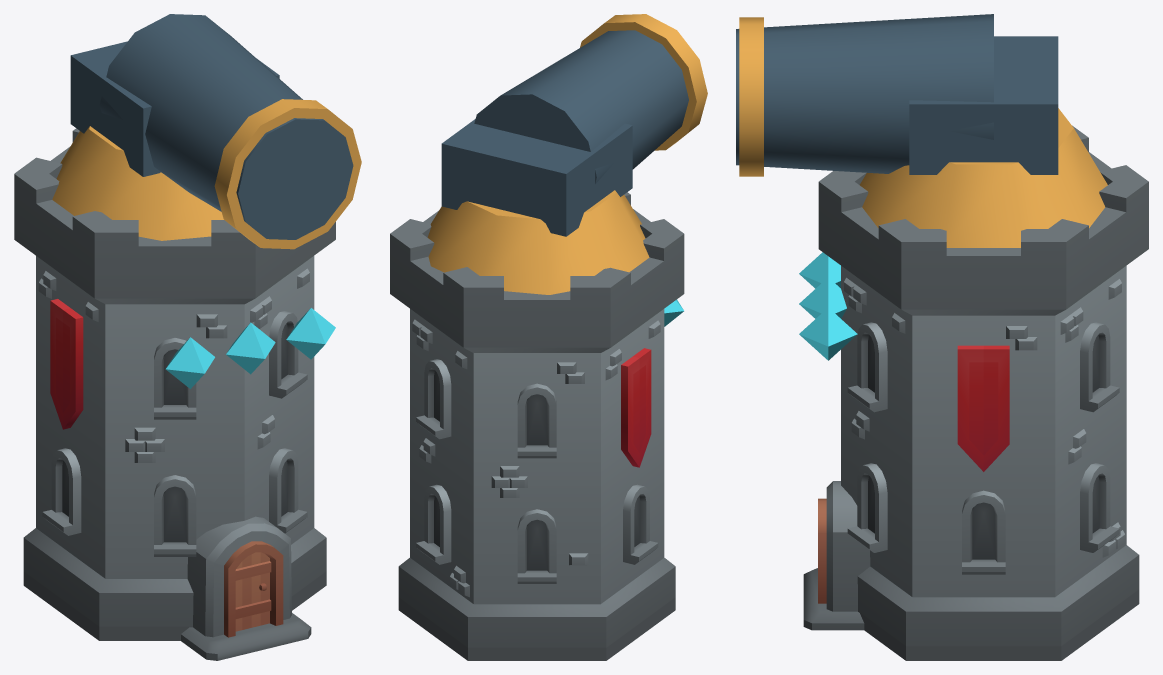
File: tower_cannon_l3.glb
The picture shows the model from 3 angles, left to right: view 1: azimuth 30°, elevation 25°; view 2: azimuth 150°, elevation 25°; view 3: azimuth 270°, elevation 25°; orthographic projection. The views are drawn at different scales.
Visible parts, largest first — view 1: Base, BarrelAssembly, Turret; view 2: Base, BarrelAssembly, Turret; view 3: Base, BarrelAssembly, Turret.
Part boxes in pixels (x1,y1,x2,y2): Base: [14, 128, 335, 660]; BarrelAssembly: [70, 14, 361, 249]; Turret: [52, 126, 223, 240]; Base: [390, 192, 684, 660]; BarrelAssembly: [441, 14, 707, 236]; Turret: [427, 190, 649, 294]; Base: [799, 125, 1148, 660]; BarrelAssembly: [736, 14, 1058, 176]; Turret: [860, 108, 1107, 247].
Size of the model in its own units: 0.9298 by 2.07 by 1.33.
Materials: 4 (1 with a texture image).
